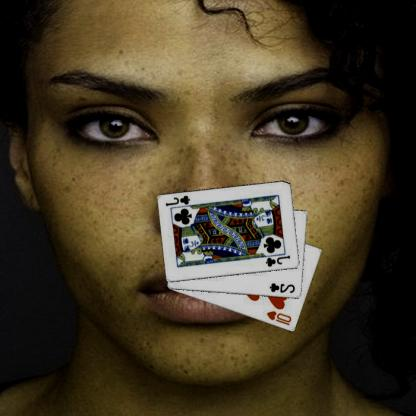10H: (266, 308, 294, 327)
2C: (269, 281, 298, 294)
JC: (265, 253, 294, 268), (165, 193, 193, 208)
